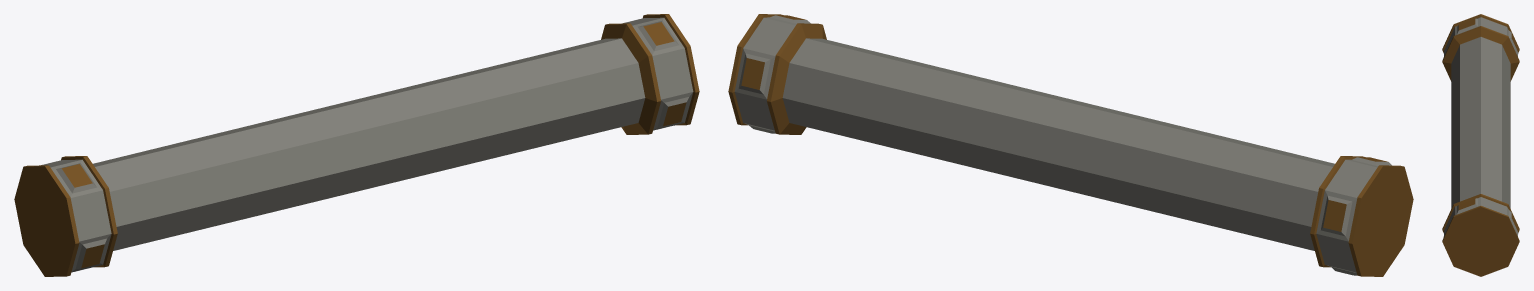
File: pipeLight.fbx
3 views of the same model, side by side, from view 1: azimuth 30°, elevation 25°; view 2: azimuth 150°, elevation 25°; view 3: azimuth 270°, elevation 25° (orthographic). The views are drawn at different scales.
Parts seen in each view (by area): view 1: Pipe _Light; view 2: Pipe _Light; view 3: Pipe _Light.
Boxes of the visible parts, left/top/right/bottom form: Pipe _Light: left=14, top=14, right=699, bottom=276; Pipe _Light: left=728, top=14, right=1413, bottom=276; Pipe _Light: left=1442, top=14, right=1519, bottom=276.
Bounding box in the file's own units: 136 × 23.01 × 23.01.
